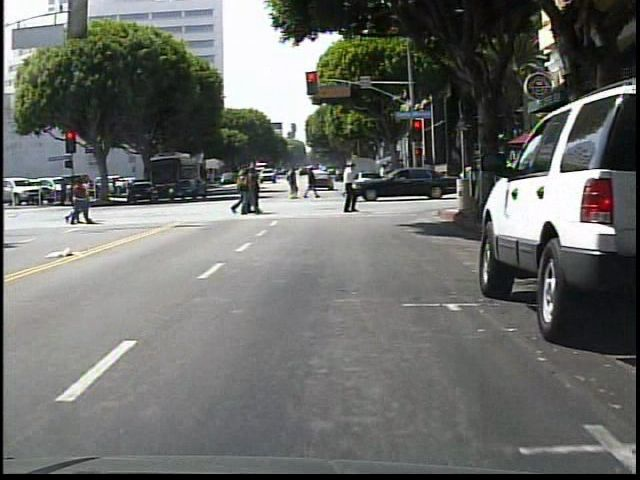person: (338, 158, 365, 218)
